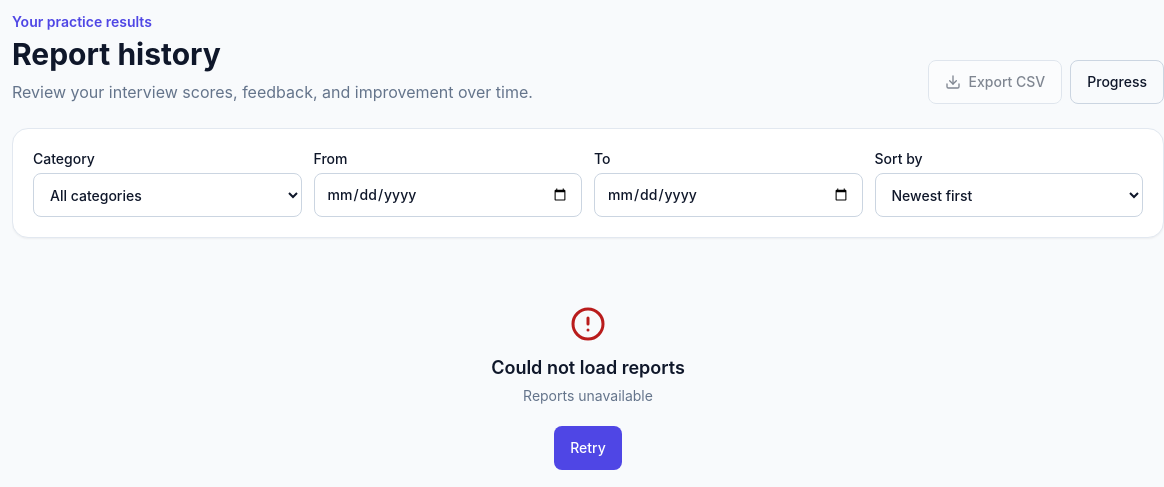
Test: ReportHistoryPage › offers retry for a list error and recovers when the request succeeds
Expected: the message shows "Reports unavailable", [523, 387, 653, 404]
Click the button "Retry" at (588, 448), box [554, 426, 622, 470]
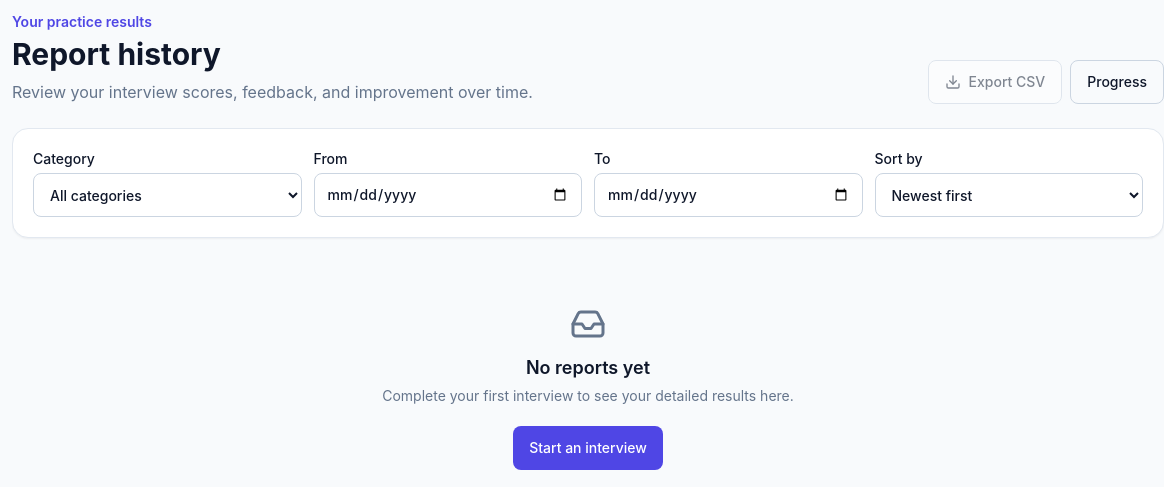
Expected: the heading "No reports yet" is shown, [526, 354, 650, 382]
